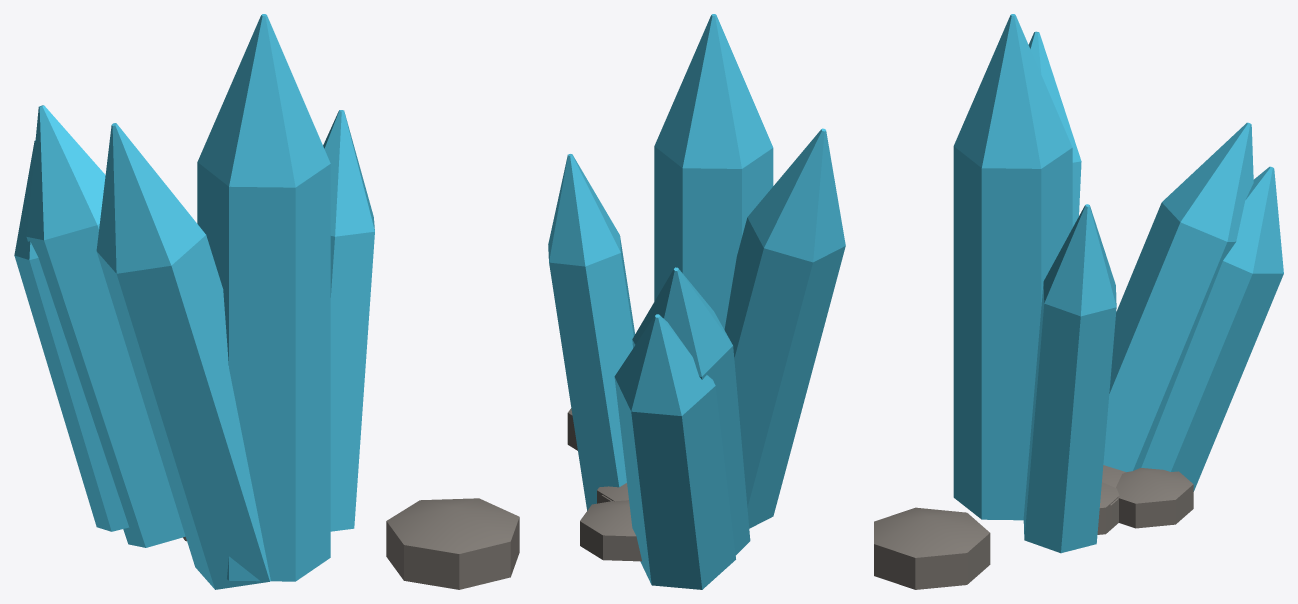
The model's file is crystal_cyan_1.glb.
3 renders of one model, left to right at view 1: azimuth 30°, elevation 25°; view 2: azimuth 150°, elevation 25°; view 3: azimuth 270°, elevation 25°, orthographic. The views are drawn at different scales.
Parts seen in each view (by area): view 1: crystals; view 2: crystals; view 3: crystals.
Boxes of the visible parts, bbox=[...] form: crystals: bbox=[14, 14, 519, 589]; crystals: bbox=[548, 14, 845, 589]; crystals: bbox=[874, 14, 1283, 589].
Bounding box in the file's own units: 2.75 × 4.26 × 3.14.
